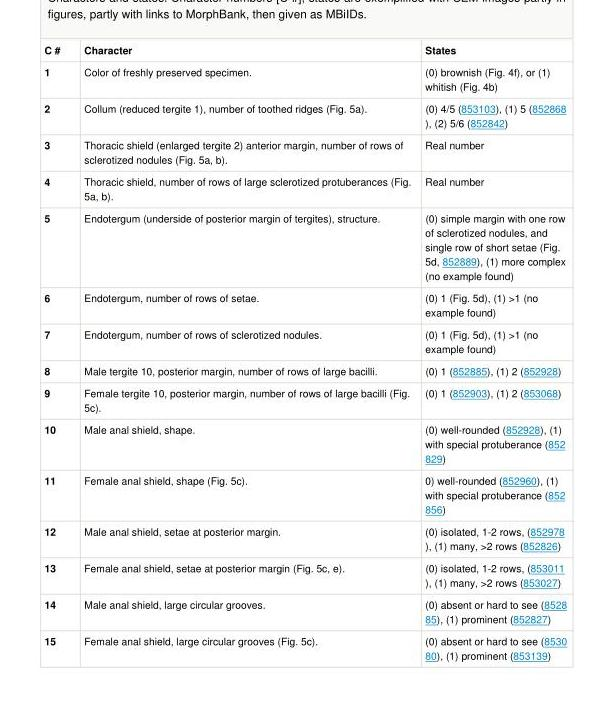table: (43, 43, 566, 661)
table column: (71, 43, 417, 661), (417, 43, 566, 661), (43, 43, 71, 661)
table row: (43, 206, 566, 286), (43, 418, 566, 469), (43, 469, 566, 520), (43, 60, 566, 97), (43, 133, 566, 170), (43, 286, 566, 323), (43, 381, 566, 418), (43, 556, 566, 593), (43, 97, 566, 133), (43, 170, 566, 206), (43, 323, 566, 359), (43, 520, 566, 556), (43, 593, 566, 629), (43, 629, 566, 661), (43, 359, 566, 381), (43, 43, 566, 60)
